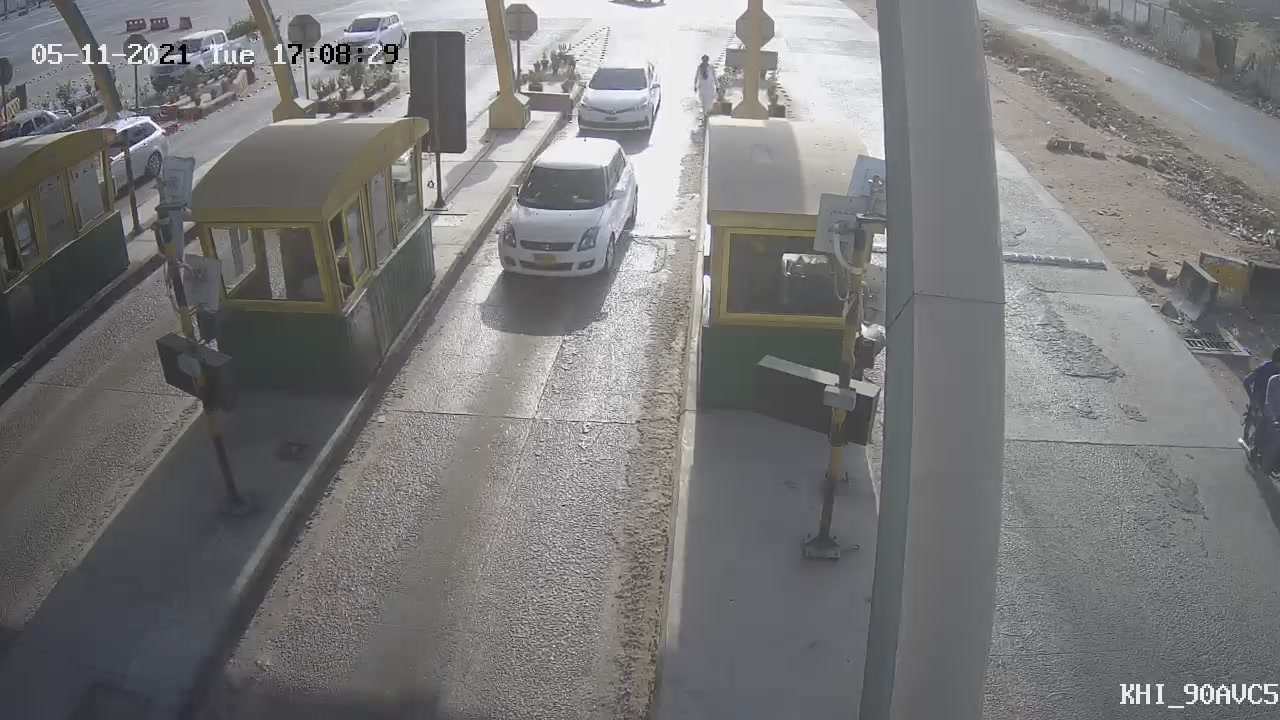F1: (478, 124, 656, 288), (564, 49, 674, 146)
